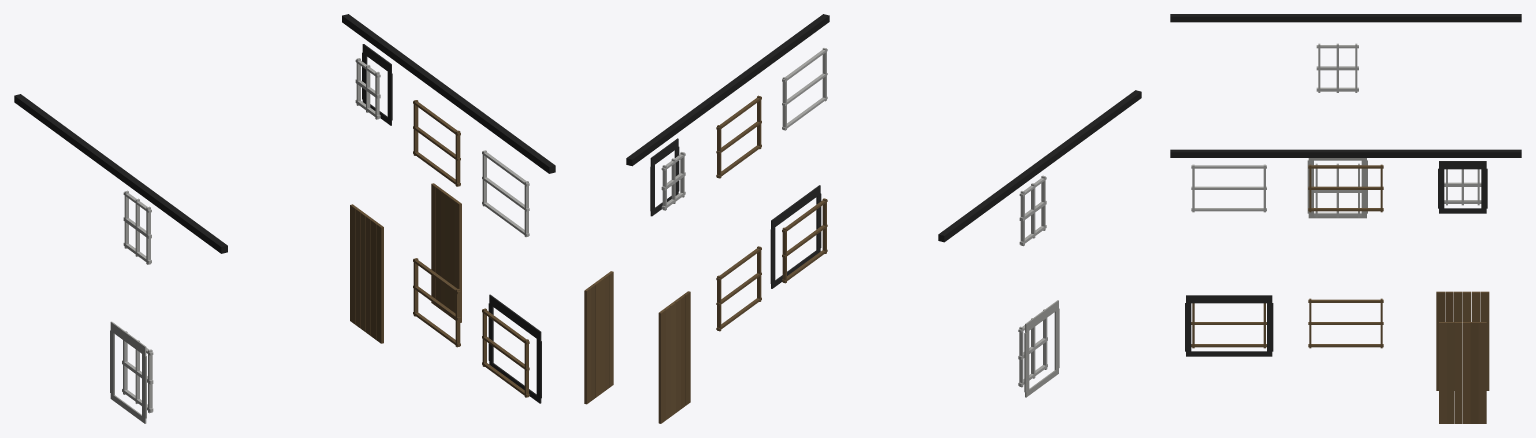
Rendered from SM_Bld_086_Wood.glb.
3 views of the same model, side by side, from view 1: azimuth 30°, elevation 25°; view 2: azimuth 150°, elevation 25°; view 3: azimuth 270°, elevation 25° (orthographic). The views are drawn at different scales.
Parts seen in each view (by area): view 1: SM_Bld_086_Wood; view 2: SM_Bld_086_Wood; view 3: SM_Bld_086_Wood.
Boxes of the visible parts, x1=… form: SM_Bld_086_Wood: x1=14, y1=14, x2=555, y2=423; SM_Bld_086_Wood: x1=584, y1=14, x2=1141, y2=423; SM_Bld_086_Wood: x1=1170, y1=14, x2=1521, y2=423.
Size of the model in its own units: 7.37 by 5.1 by 6.63.
